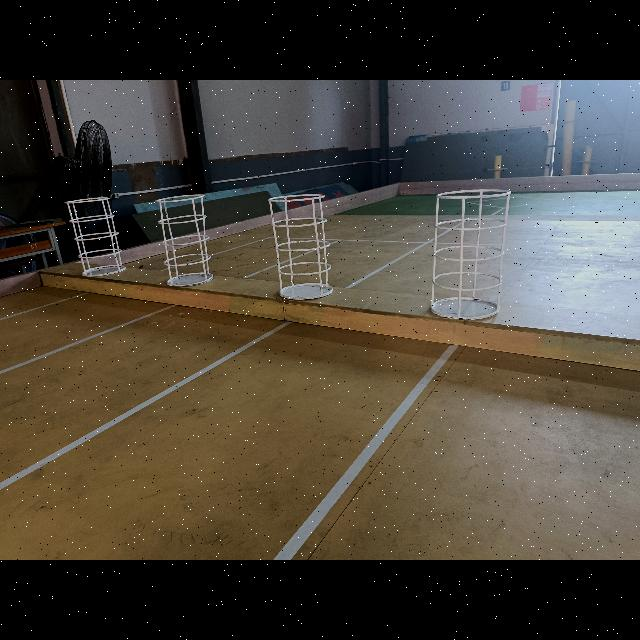S: (429, 187, 512, 322), (267, 193, 334, 300), (155, 193, 215, 287), (64, 197, 127, 277)
